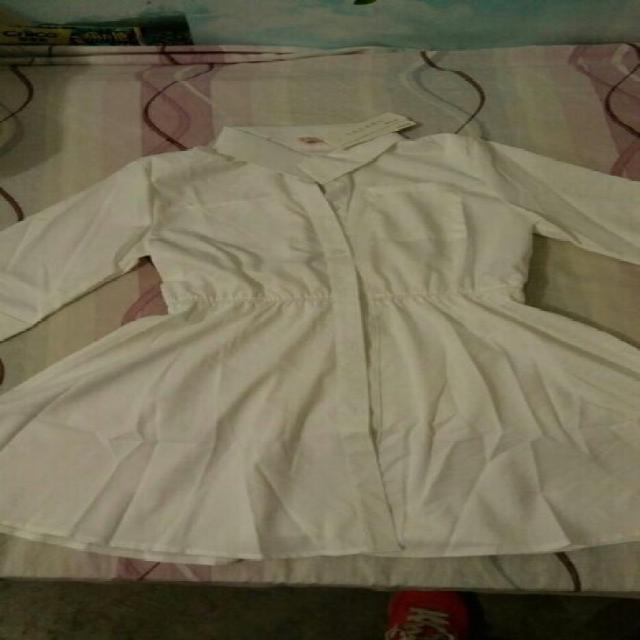long-sleeve-dress: (9, 108, 640, 598)
